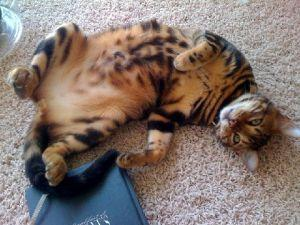bengal: (214, 86, 300, 178)
